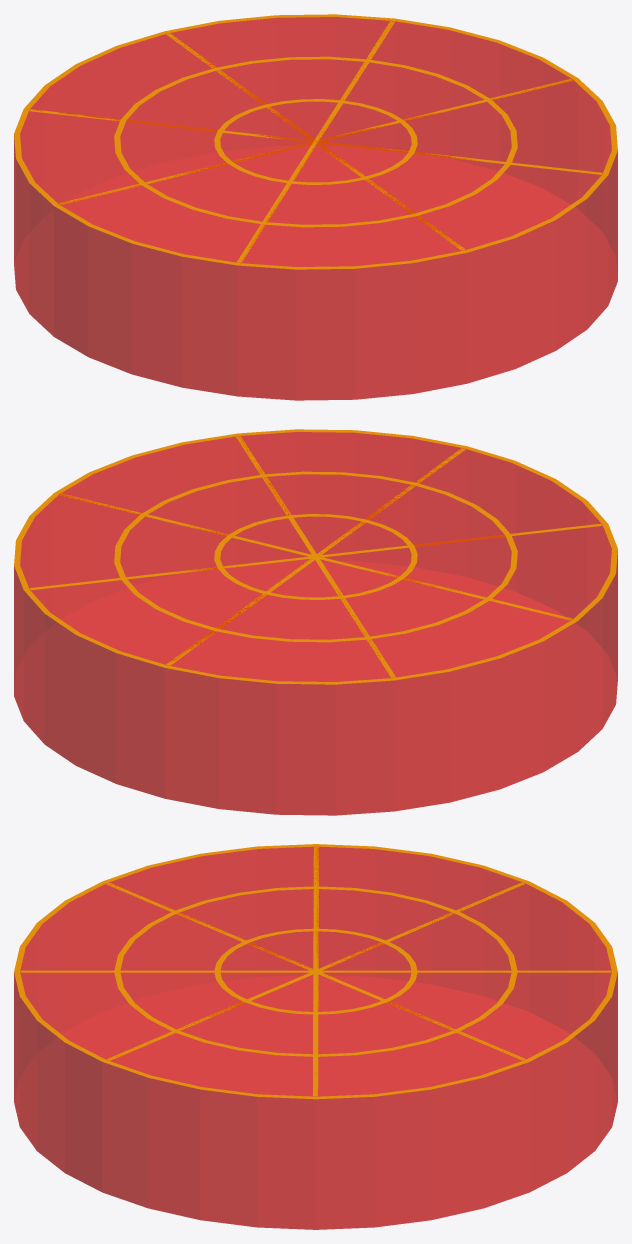
Rendered from marker.glb.
The picture shows the model from 3 angles, top to bottom: view 1: azimuth 30°, elevation 25°; view 2: azimuth 150°, elevation 25°; view 3: azimuth 270°, elevation 25°; orthographic projection.
Parts seen in each view (by area): view 1: marker; view 2: marker; view 3: marker.
Boxes of the visible parts, box(x1,y1,x2,y2) form: marker: box(14, 14, 617, 400); marker: box(14, 429, 617, 815); marker: box(14, 844, 617, 1229).
Bounding box in the file's own units: 2 × 0.4775 × 2.
